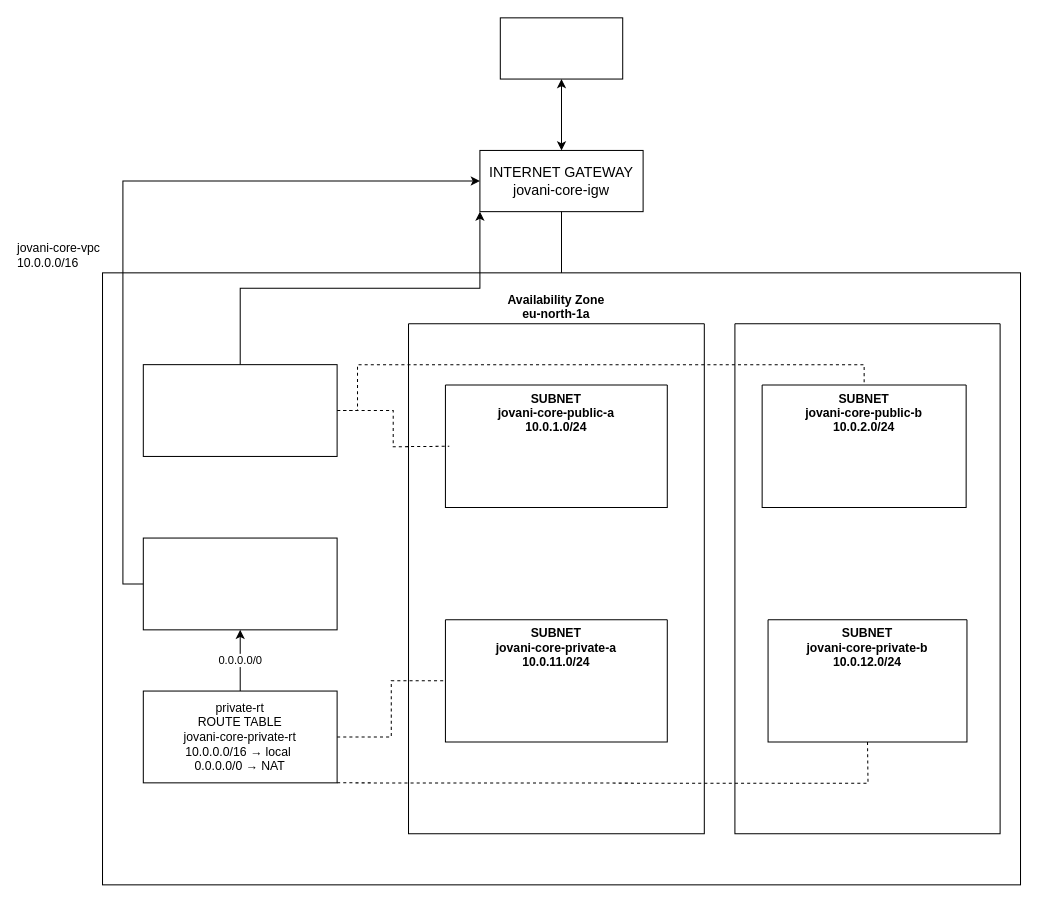
This 1038x903 diagram has some shape labels left out. Each missing label, with the centre of its shape:
"Availability Zone eu-north-1b" belongs at (867,578).
"INTERNET" belongs at (561,48).
"public-rt ROUTE TABLE jovani-core-public-rt 10.0.0.0/16 → local 0.0.0.0/0 → IGW" belongs at (239,410).
"Regional NAT Gateway" belongs at (239,583).
